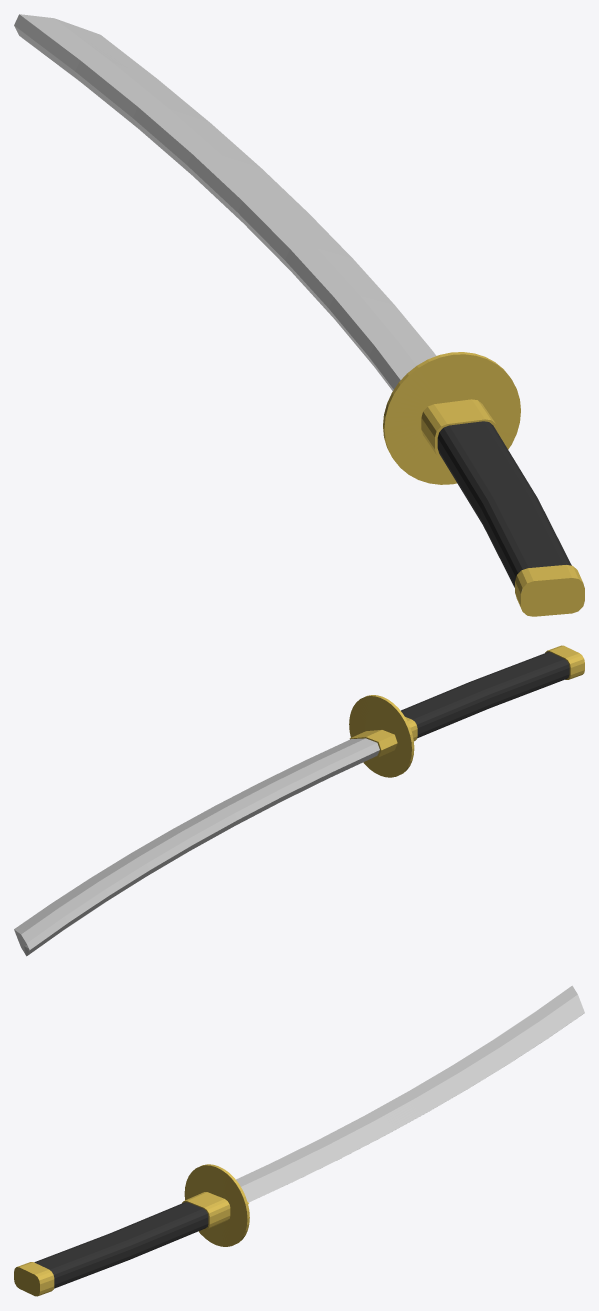
The model's file is katana.fbx.
The picture shows the model from 3 angles, top to bottom: view 1: azimuth 30°, elevation 25°; view 2: azimuth 150°, elevation 25°; view 3: azimuth 330°, elevation 25°; orthographic projection. The views are drawn at different scales.
Visible parts, largest first — view 1: Katana; view 2: Katana; view 3: Katana.
Part boxes in pixels (x1=…): Katana: x1=14, y1=14, x2=584, y2=616; Katana: x1=14, y1=645, x2=584, y2=956; Katana: x1=14, y1=985, x2=584, y2=1296.
Bounding box in the file's own units: 128 × 60 × 609.
